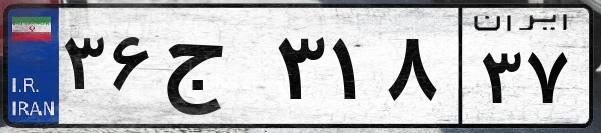1: (330, 28, 385, 110)
3: (270, 28, 330, 110), (57, 26, 110, 100), (475, 38, 525, 113)
6: (110, 28, 158, 98)
7: (525, 38, 570, 115)
8: (385, 28, 445, 110)
ج: (158, 20, 270, 120)
